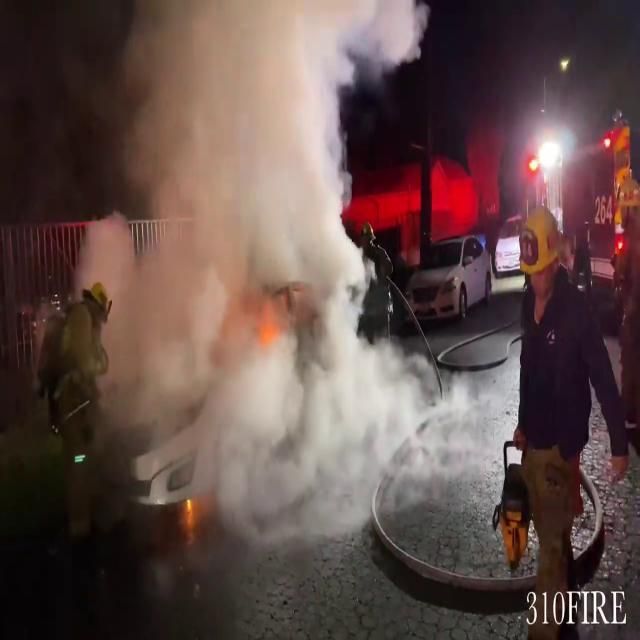Smoke: (58, 0, 398, 538)
